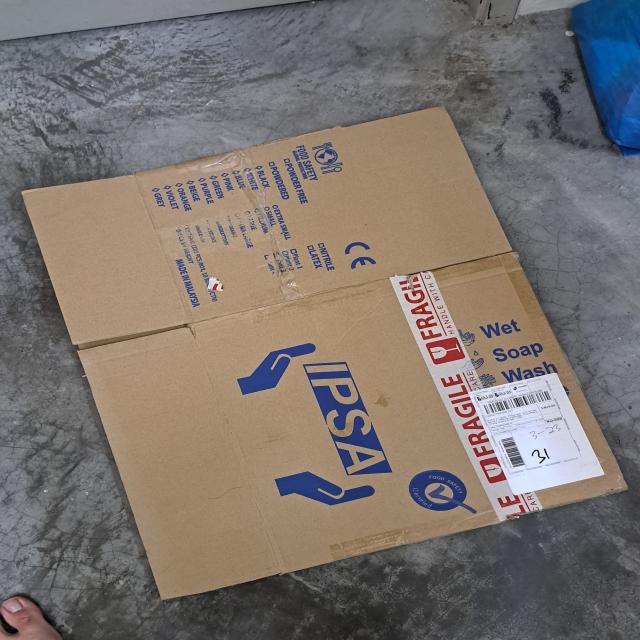cardboard: (19, 105, 629, 595)
plastic bag: (567, 0, 640, 153)
